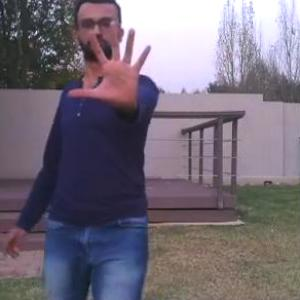follow_hand: (66, 17, 155, 108)
